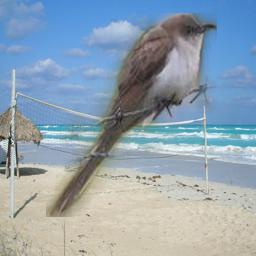Cuckoo: (46, 13, 217, 217)
